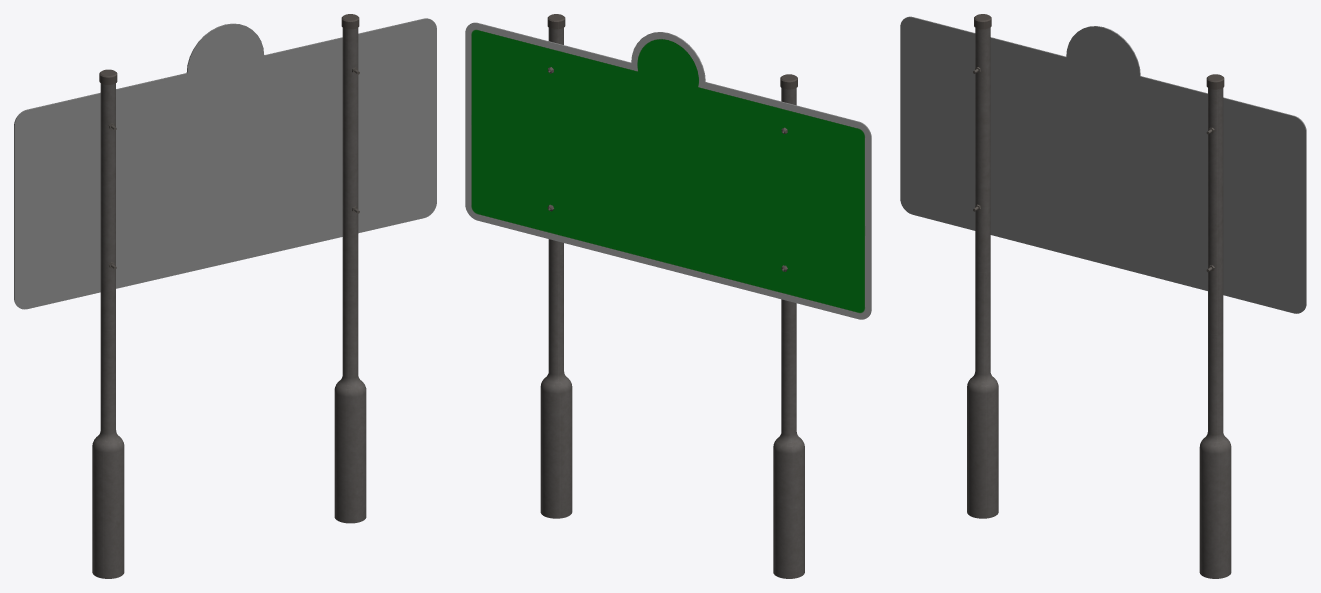
The model's file is road_sign.glb.
The picture shows the model from 3 angles, left to right: view 1: azimuth 30°, elevation 25°; view 2: azimuth 150°, elevation 25°; view 3: azimuth 330°, elevation 25°; orthographic projection.
Visible parts, largest first — view 1: Sqare With Hafe Circle; view 2: Sqare With Hafe Circle; view 3: Sqare With Hafe Circle.
Part boxes in pixels (left/top/right/bottom): Sqare With Hafe Circle: left=14, top=14, right=436, bottom=578; Sqare With Hafe Circle: left=465, top=14, right=871, bottom=578; Sqare With Hafe Circle: left=900, top=14, right=1306, bottom=578.
Size of the model in its own units: 3.67 by 4.35 by 0.2994.
1 material, 1 textured.
